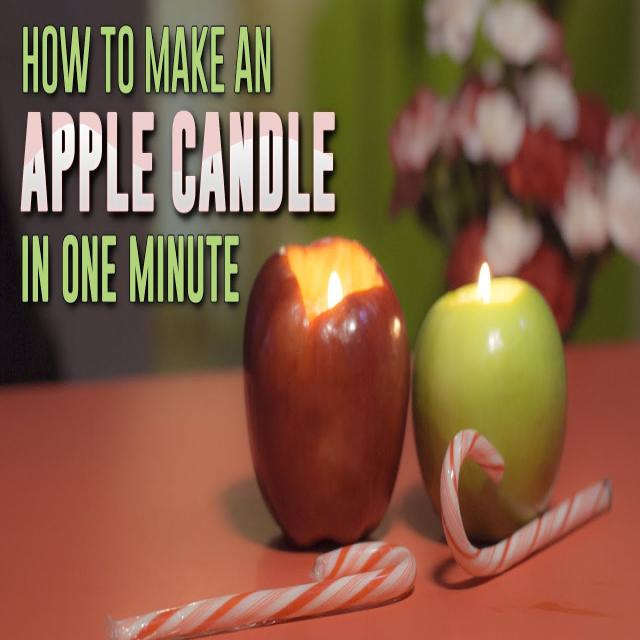apple: (242, 236, 410, 552), (412, 278, 568, 548)
